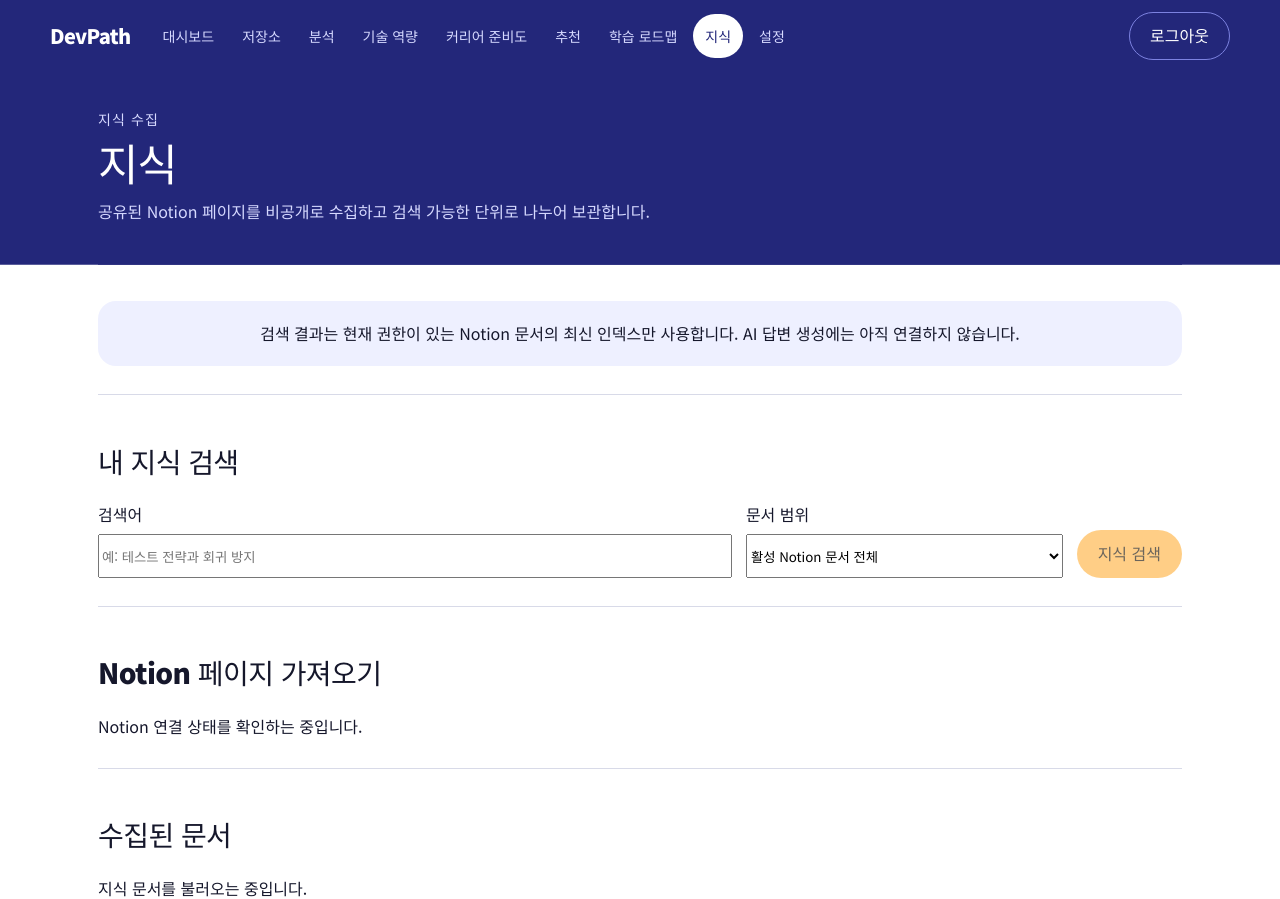
Test: searches an owner-scoped document and presents bounded evidence with its source
In the field labelled "검색어": (415, 556) [98,534,732,578], type "회귀 방지"
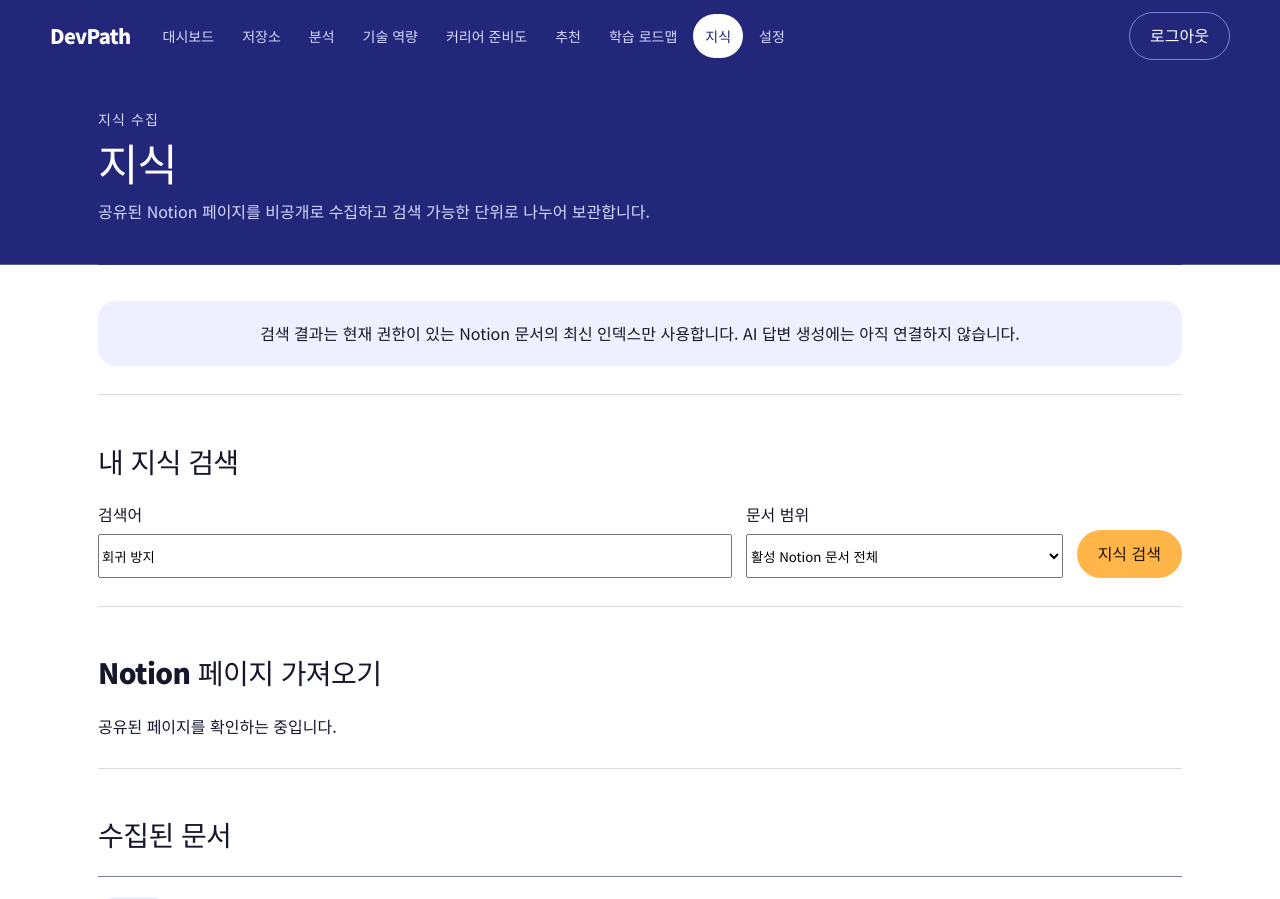
Select "테스트 전략" in the dropdown labelled "문서 범위": (904, 556) [746,534,1063,578]
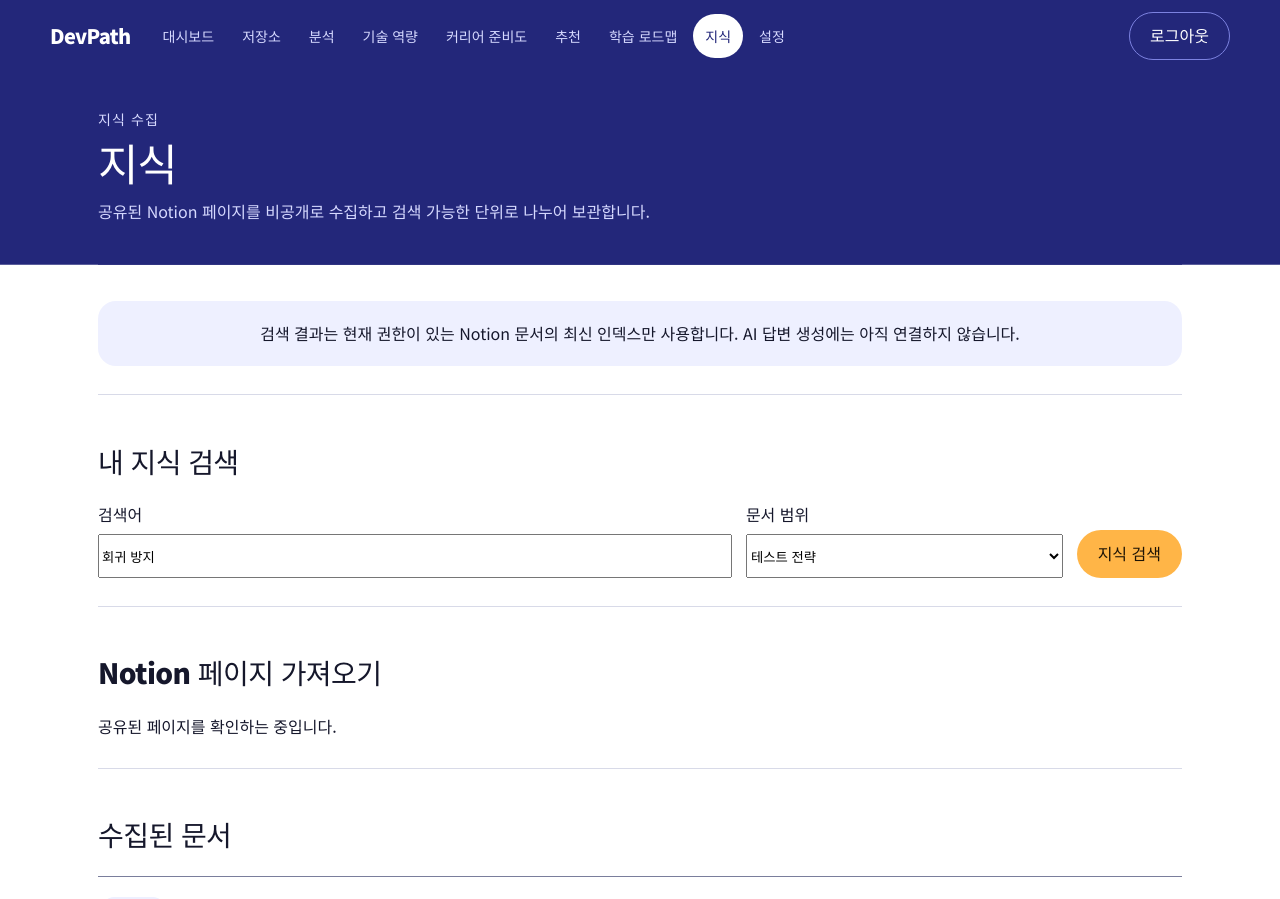
Click the button "지식 검색": (1129, 554) [1077,530,1182,578]
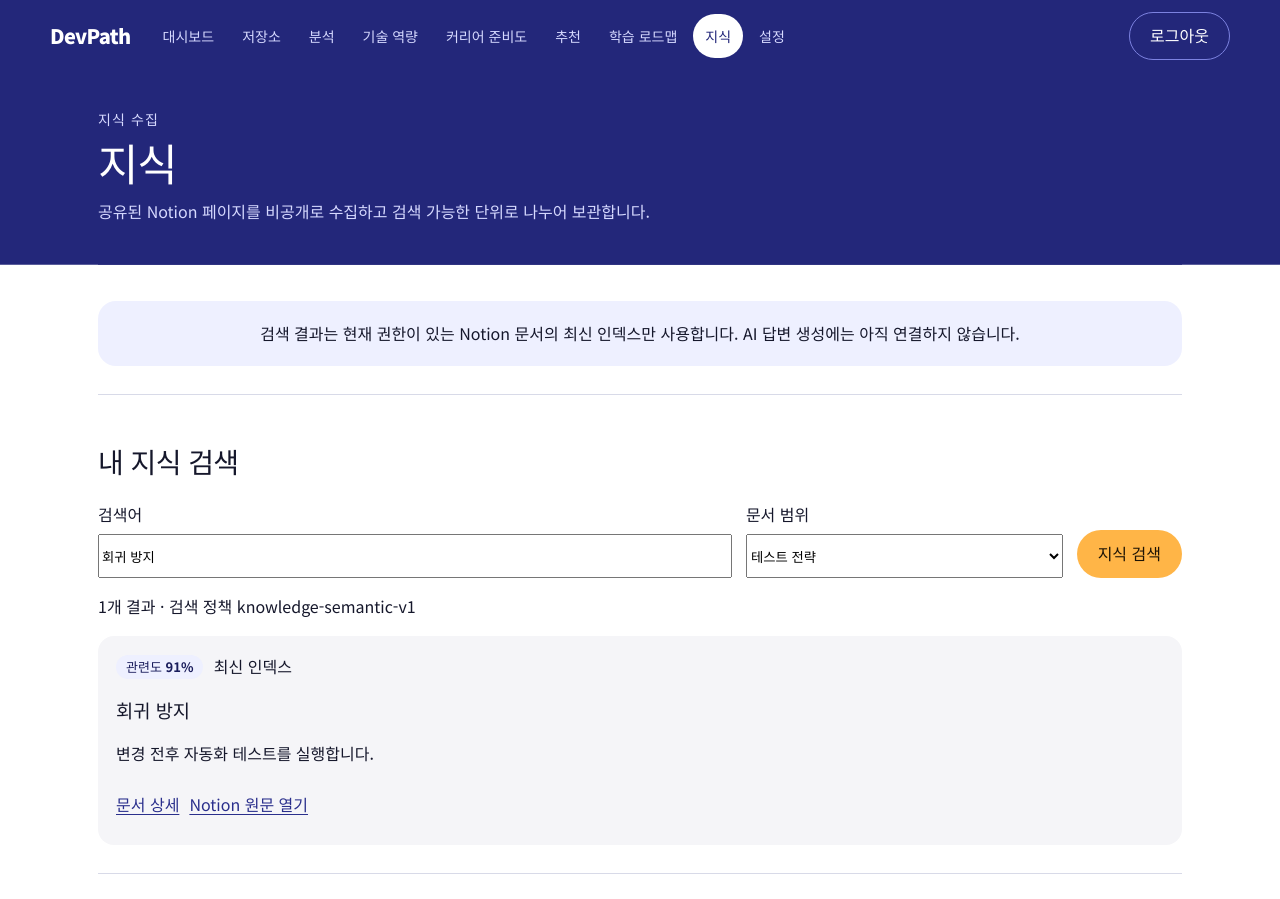
Result: the text "변경 전후 자동화 테스트를 실행합니다." is shown at [116,741,374,765]
Result: the text "관련도 91%" is shown at [116,654,203,679]
